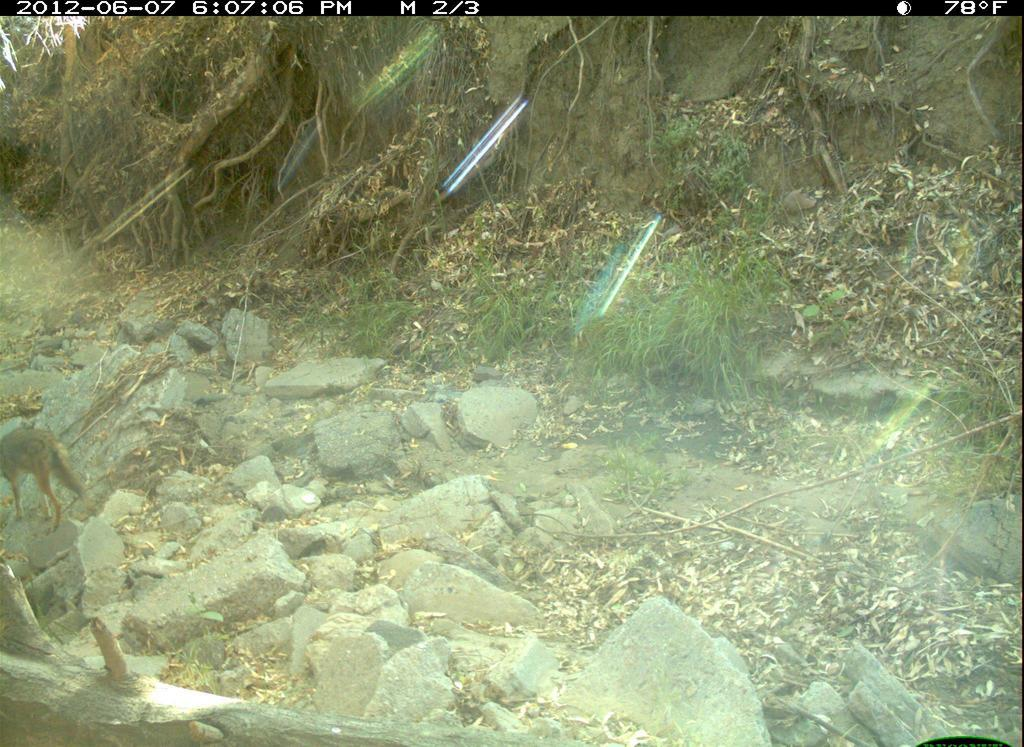coyote: (1, 417, 90, 545)
